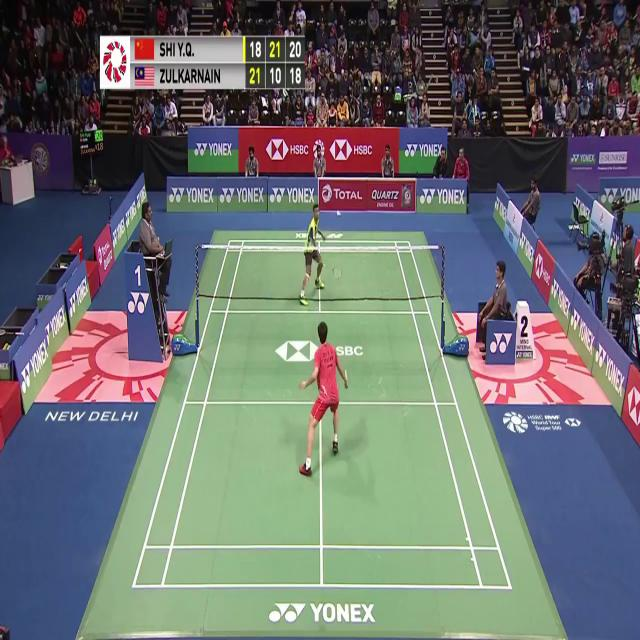Shuttlecock: (336, 208, 342, 220)
